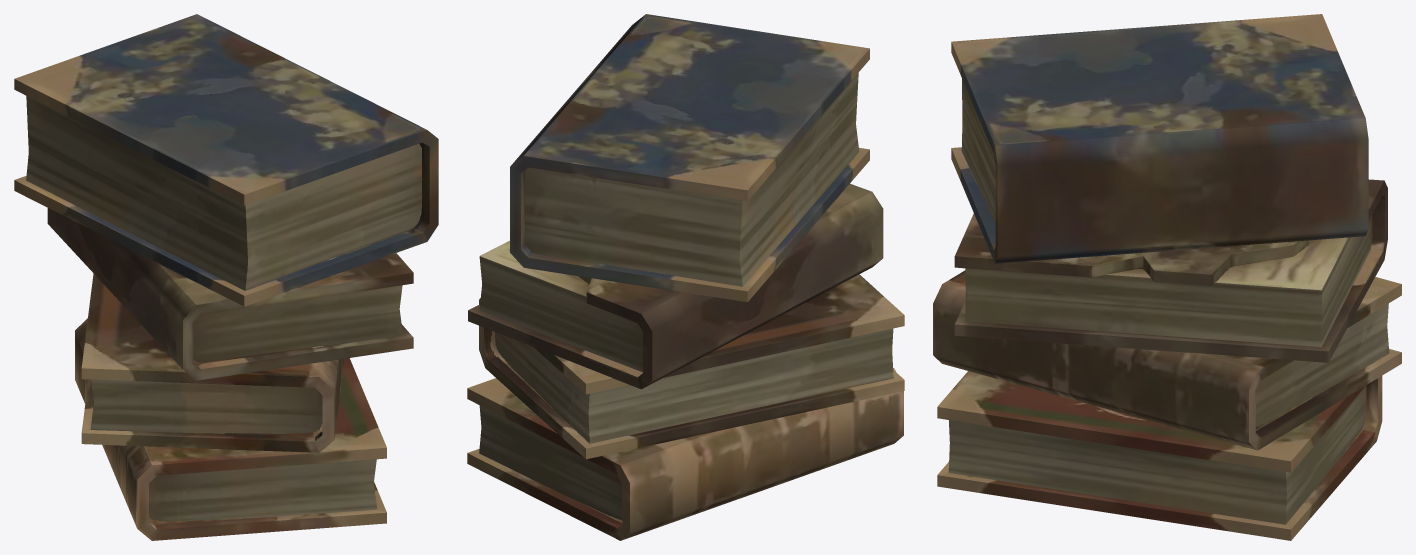
3 renders of one model, left to right at view 1: azimuth 30°, elevation 25°; view 2: azimuth 150°, elevation 25°; view 3: azimuth 270°, elevation 25°, orthographic. The views are drawn at different scales.
Visible parts, largest first — view 1: SM_DR_BookStack_12_LOD0; view 2: SM_DR_BookStack_12_LOD0; view 3: SM_DR_BookStack_12_LOD0.
Part boxes in pixels (x1,y1,x2,y2): SM_DR_BookStack_12_LOD0: (14,14,438,540); SM_DR_BookStack_12_LOD0: (467,14,904,540); SM_DR_BookStack_12_LOD0: (933,14,1401,540).
Size of the model in its own units: 0.4306 by 0.4206 by 0.4762.
Materials: 1 (1 with a texture image).
